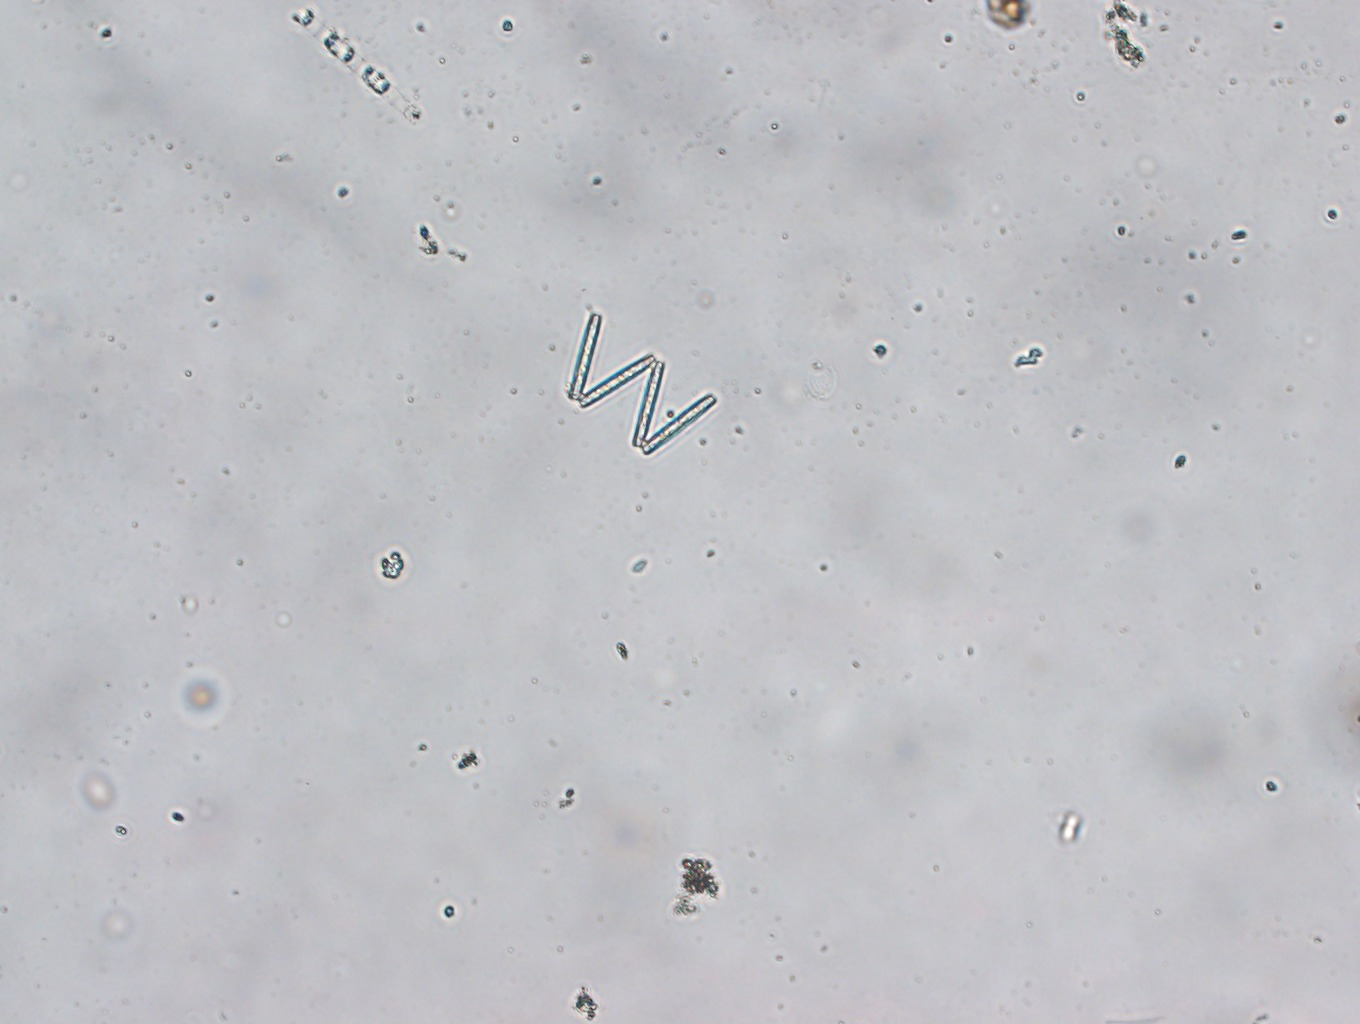skeletonema: (292, 2, 426, 126)
thalassionema nitzschioides: (567, 313, 718, 456)
